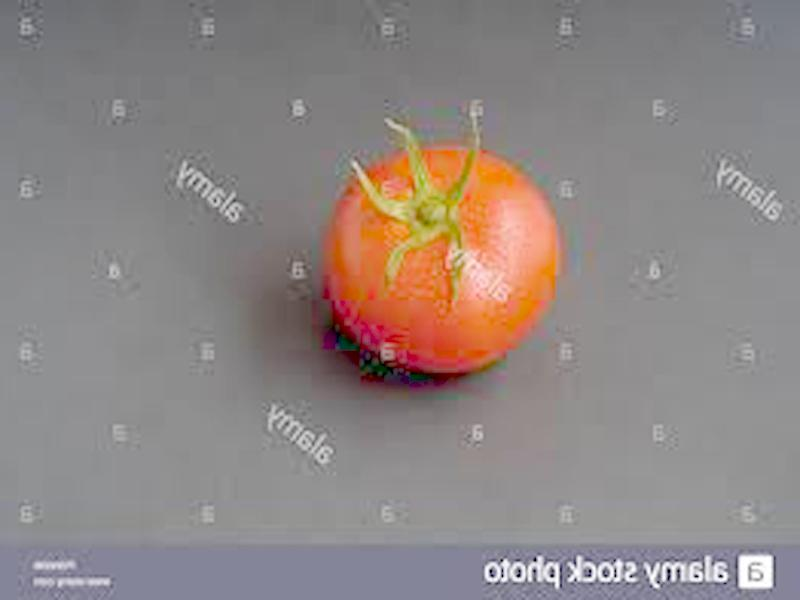Tomato: (323, 144, 561, 362)
